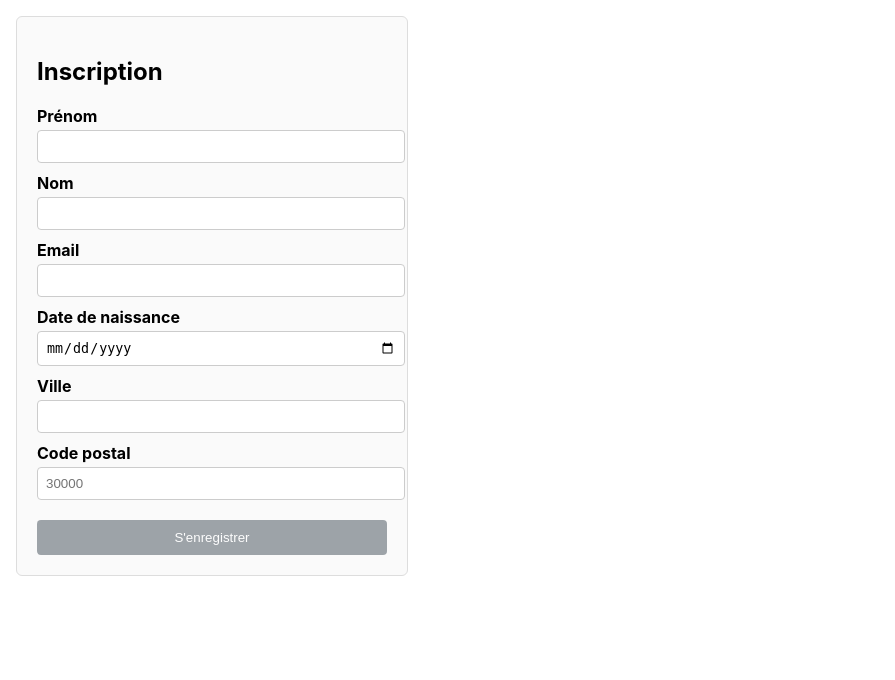
Test: RegistrationForm / complete integration › Should display real-time errors
The image size is (895, 680).
# use invalide first name to trigger error
Type "123" into the field labelled "Prénom". click: (221, 146)
box: [37, 130, 405, 163]
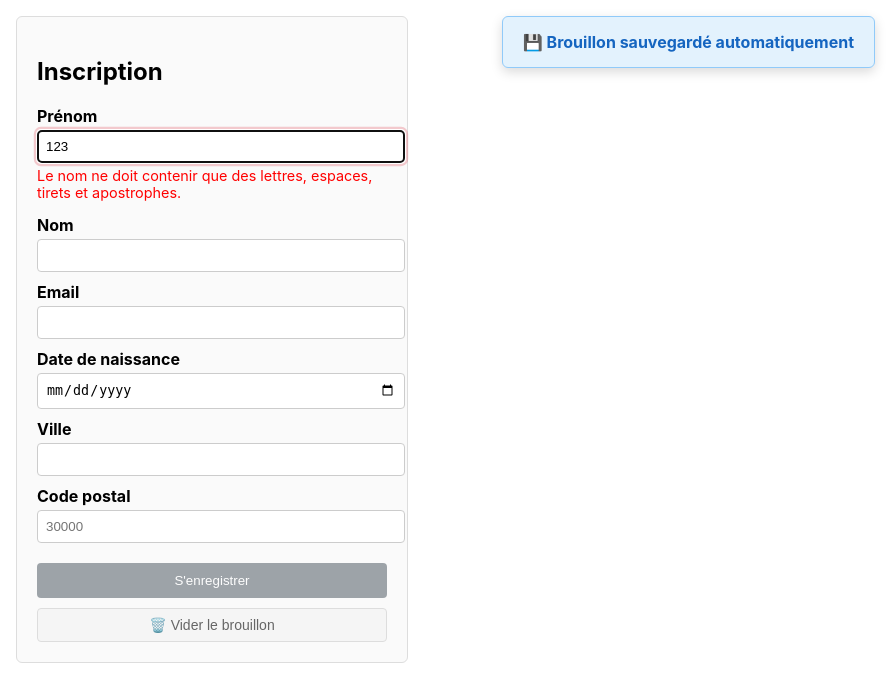
expect the text "Le nom ne doit contenir que des lettres, espaces, tirets et apostrophes." is shown: met, box [37, 167, 387, 201]
Clear the field labelled "Prénom". click: (221, 146)
box: [37, 130, 405, 163]
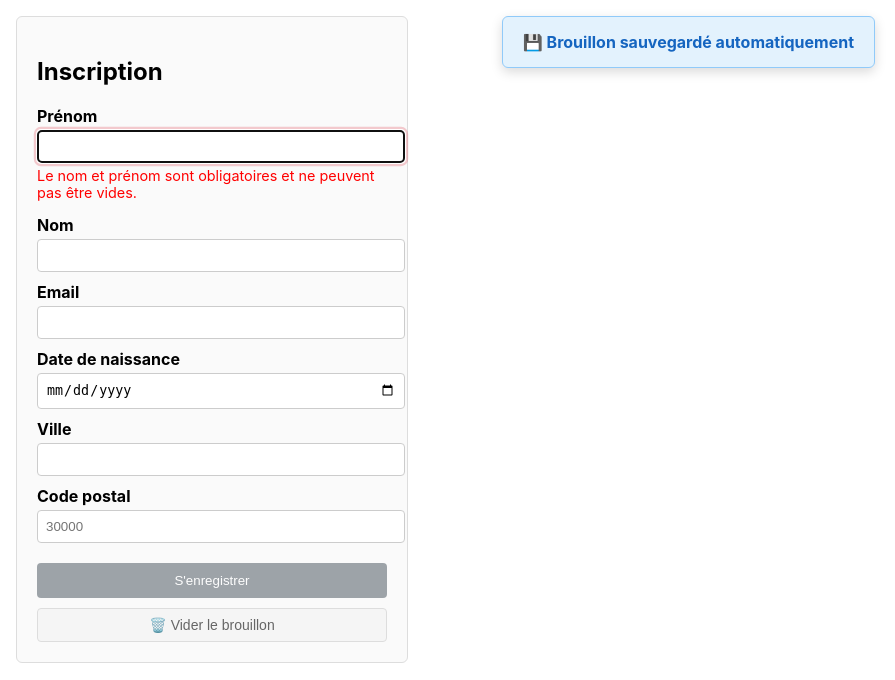
expect the text "Le nom et prénom sont obligatoires et ne peuvent pas être vides." is shown: met, box [37, 167, 387, 201]
